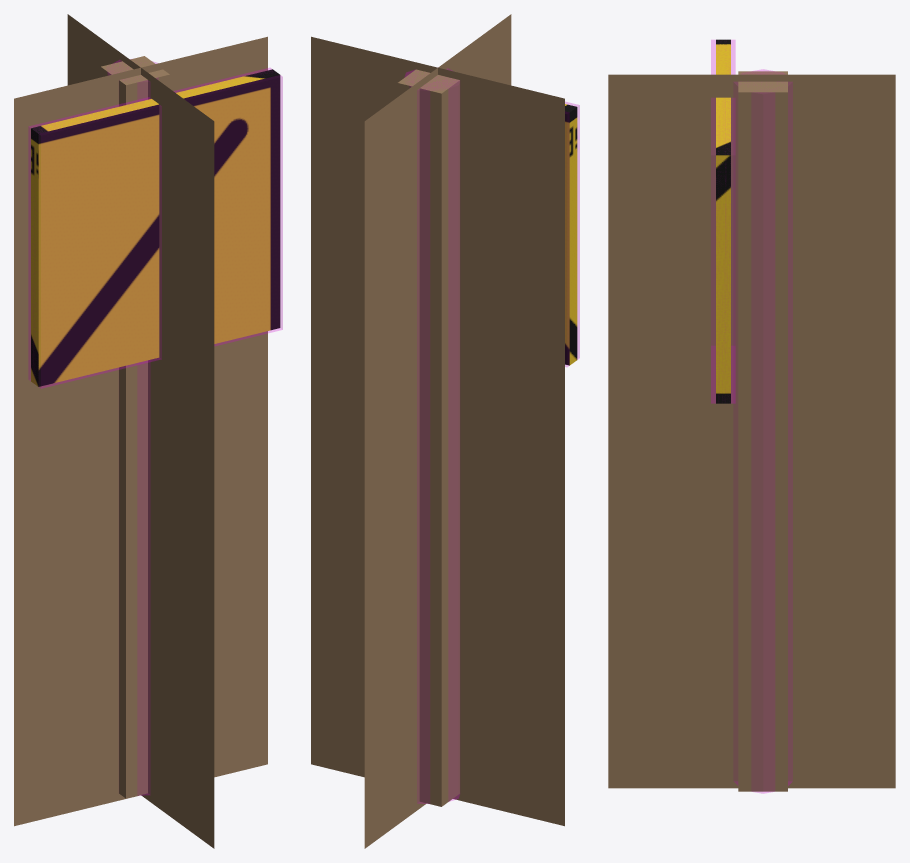
Rendered from danger_x.dae.
3 renders of one model, left to right at view 1: azimuth 30°, elevation 25°; view 2: azimuth 150°, elevation 25°; view 3: azimuth 270°, elevation 25°, orthographic.
Parts seen in each view (by area): view 1: danger_x_a50, danger_x_a800, Colmesh_sign-1, Colmesh_post-1, danger_x_a200; view 2: danger_x_a50, danger_x_a800, Colmesh_post-1, danger_x_a200, Colmesh_sign-1; view 3: danger_x_a50, danger_x_a800, Colmesh_post-1, Colmesh_sign-1.
Boxes of the visible parts, x1,y1,x2,y2 form: danger_x_a50: [14, 14, 267, 848]; danger_x_a800: [31, 56, 280, 798]; Colmesh_sign-1: [28, 68, 282, 388]; Colmesh_post-1: [108, 60, 157, 795]; danger_x_a200: [119, 61, 169, 796]; danger_x_a50: [311, 14, 564, 848]; danger_x_a800: [397, 69, 577, 806]; Colmesh_post-1: [405, 68, 459, 803]; danger_x_a200: [413, 71, 459, 805]; Colmesh_sign-1: [565, 102, 579, 366]; danger_x_a50: [608, 74, 895, 788]; danger_x_a800: [716, 39, 787, 791]; Colmesh_post-1: [734, 69, 792, 793]; Colmesh_sign-1: [711, 40, 735, 403].
Bounding box in the file's own units: 0.5775 × 0.5775 × 1.58.
3 materials, 1 textured.
